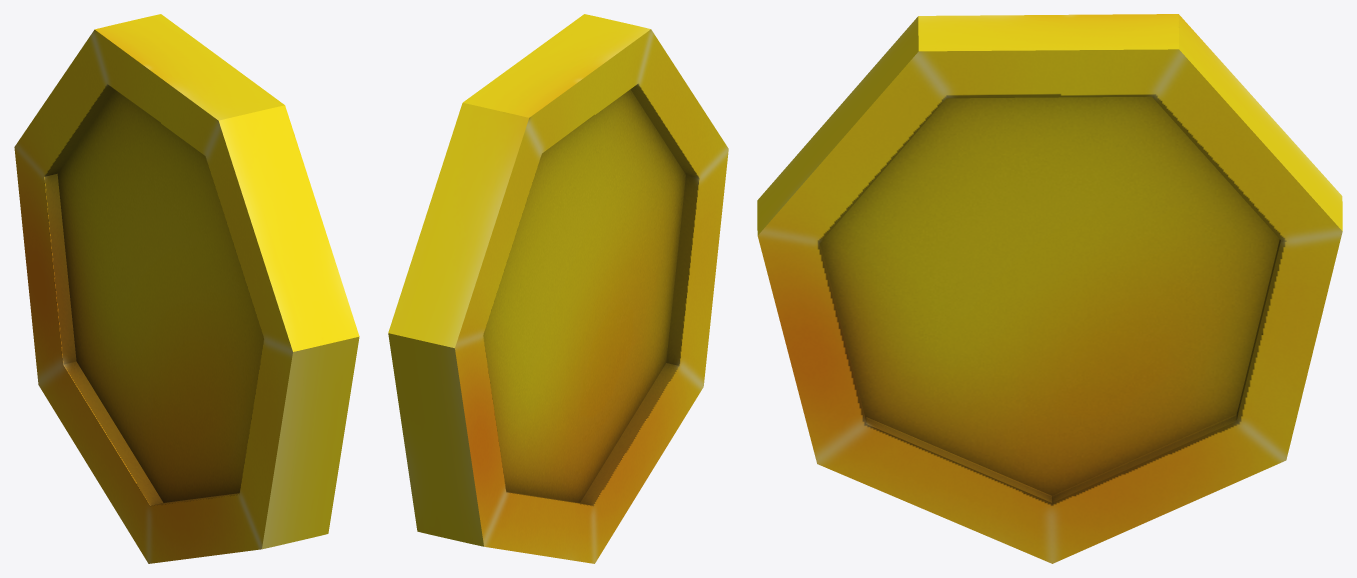
File: coin.fbx
The picture shows the model from 3 angles, left to right: view 1: azimuth 30°, elevation 25°; view 2: azimuth 150°, elevation 25°; view 3: azimuth 270°, elevation 25°; orthographic projection. The views are drawn at different scales.
Parts seen in each view (by area): view 1: pCylinder1; view 2: pCylinder1; view 3: pCylinder1.
Part boxes in pixels (<box>): pCylinder1: <box>14,14,359,563</box>; pCylinder1: <box>388,14,728,563</box>; pCylinder1: <box>757,14,1342,563</box>.
Size of the model in its own units: 0.9642 by 6.15 by 6.29.
